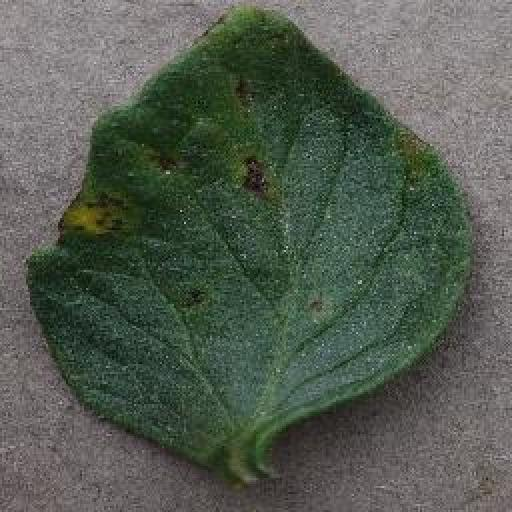Bacterial Spot: (21, 0, 475, 475)
